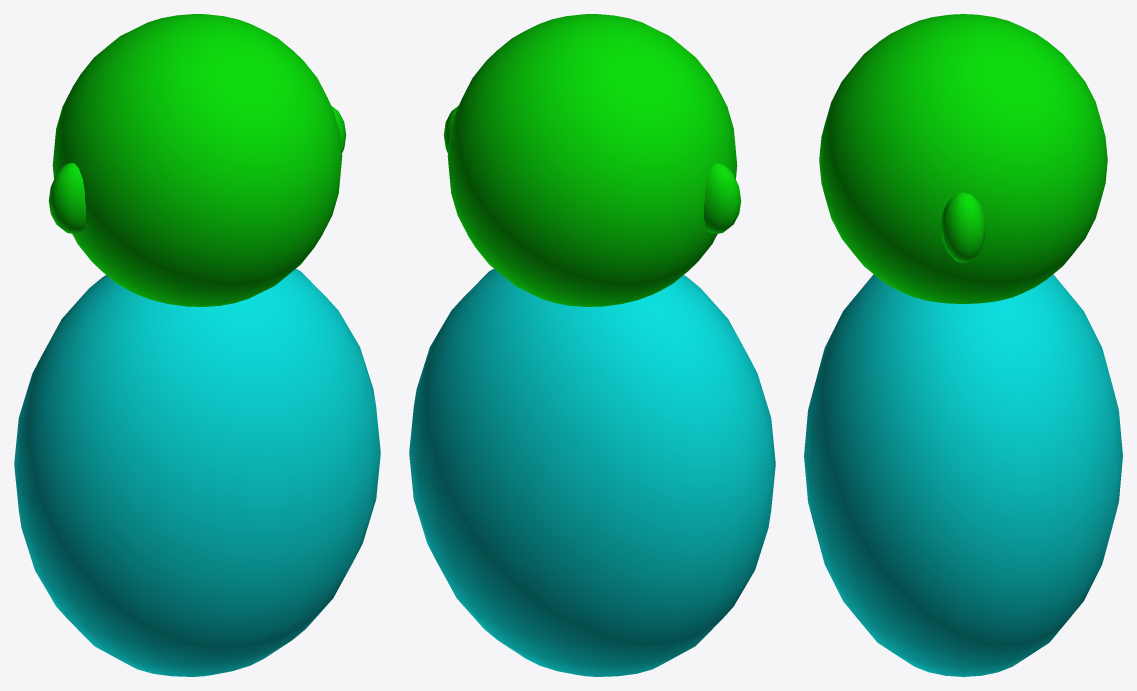
File: DriverBase.fbx
The picture shows the model from 3 angles, left to right: view 1: azimuth 30°, elevation 25°; view 2: azimuth 150°, elevation 25°; view 3: azimuth 270°, elevation 25°; orthographic projection.
Visible parts, largest first — view 1: DriverBase; view 2: DriverBase; view 3: DriverBase.
Boxes of the visible parts, x1,y1,x2,y2 form: DriverBase: [14, 14, 380, 676]; DriverBase: [409, 14, 775, 676]; DriverBase: [804, 14, 1122, 676].
Size of the model in its own units: 0.5 by 0.9238 by 0.42.
